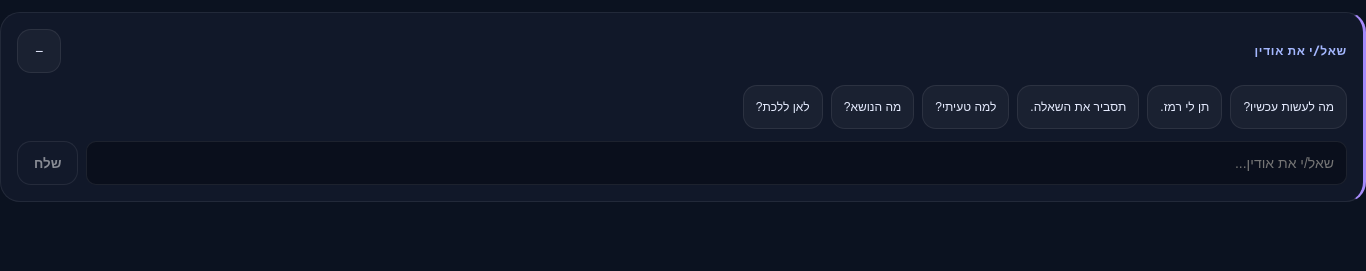
AskOdinPanel (general educational assistant pass) › answers "what to do now" with the mission goal
Click the button with test id "ask-odin-what-now".
click(1289, 107)  # box top-left (1230, 85), bottom-right (1347, 129)
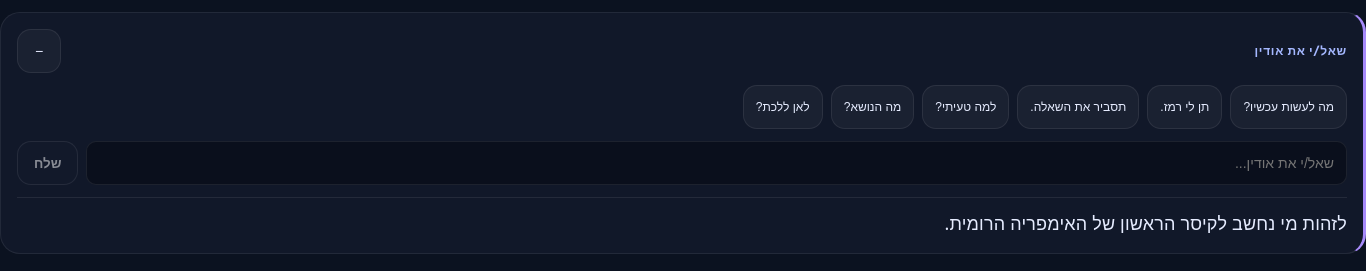
Check: the text with test id "ask-odin-answer" reads "לזהות מי נחשב לקיסר הראשון של האימפריה הרומית.", box top-left (944, 211), bottom-right (1347, 235)
